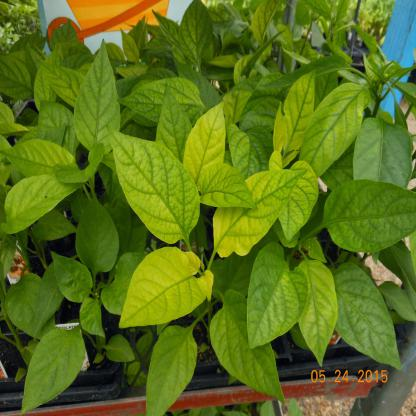bell pepper leaf: (106, 123, 199, 249), (209, 287, 286, 407), (119, 246, 216, 329), (212, 168, 301, 258), (321, 180, 416, 253), (298, 83, 369, 179), (246, 242, 309, 348), (20, 324, 85, 416), (72, 36, 119, 157), (292, 257, 338, 367), (143, 324, 198, 416), (118, 80, 204, 132), (6, 174, 86, 229), (2, 137, 84, 187), (181, 101, 227, 189), (77, 194, 120, 283), (274, 69, 316, 159), (156, 81, 202, 157), (225, 119, 272, 179)
